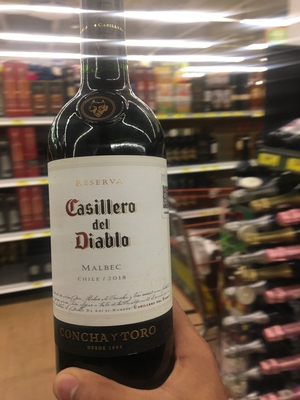casillero del diablo malbec: (45, 9, 186, 394)
